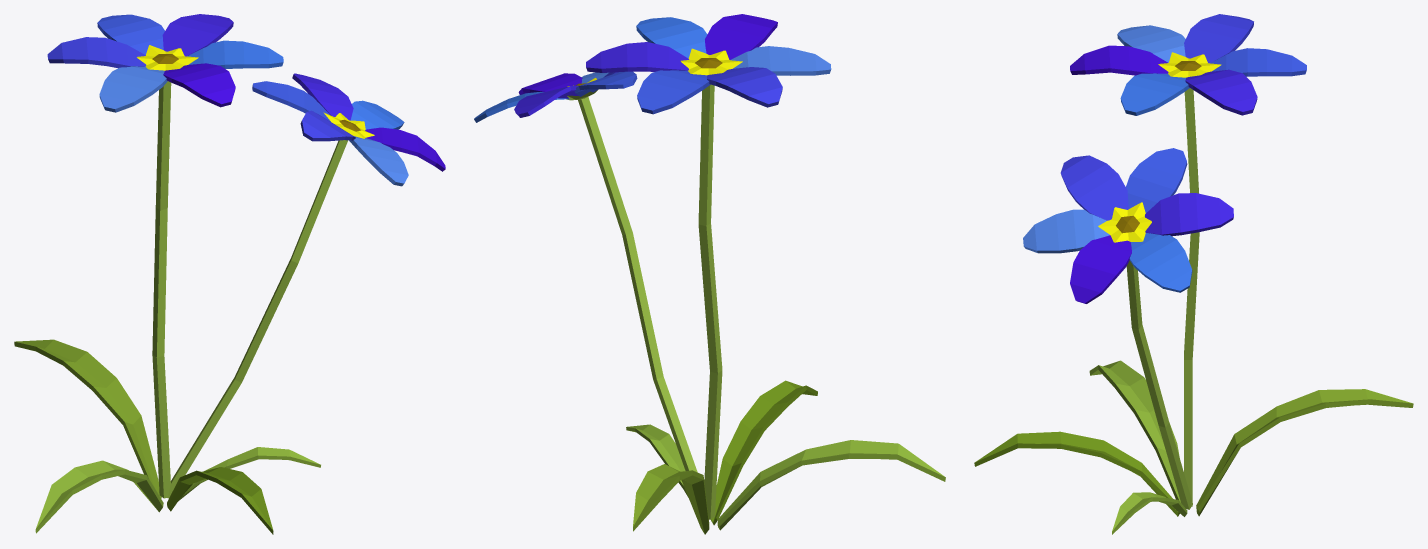
The model's file is Flower_03.fbx.
The picture shows the model from 3 angles, left to right: view 1: azimuth 30°, elevation 25°; view 2: azimuth 150°, elevation 25°; view 3: azimuth 270°, elevation 25°; orthographic projection. The views are drawn at different scales.
Parts seen in each view (by area): view 1: Flower_03; view 2: Flower_03; view 3: Flower_03.
Part boxes in pixels (x1,y1,x2,y2): Flower_03: (14, 14, 445, 534); Flower_03: (474, 14, 945, 534); Flower_03: (974, 14, 1413, 534).
Size of the model in its own units: 0.7684 by 0.8293 by 0.7126.
